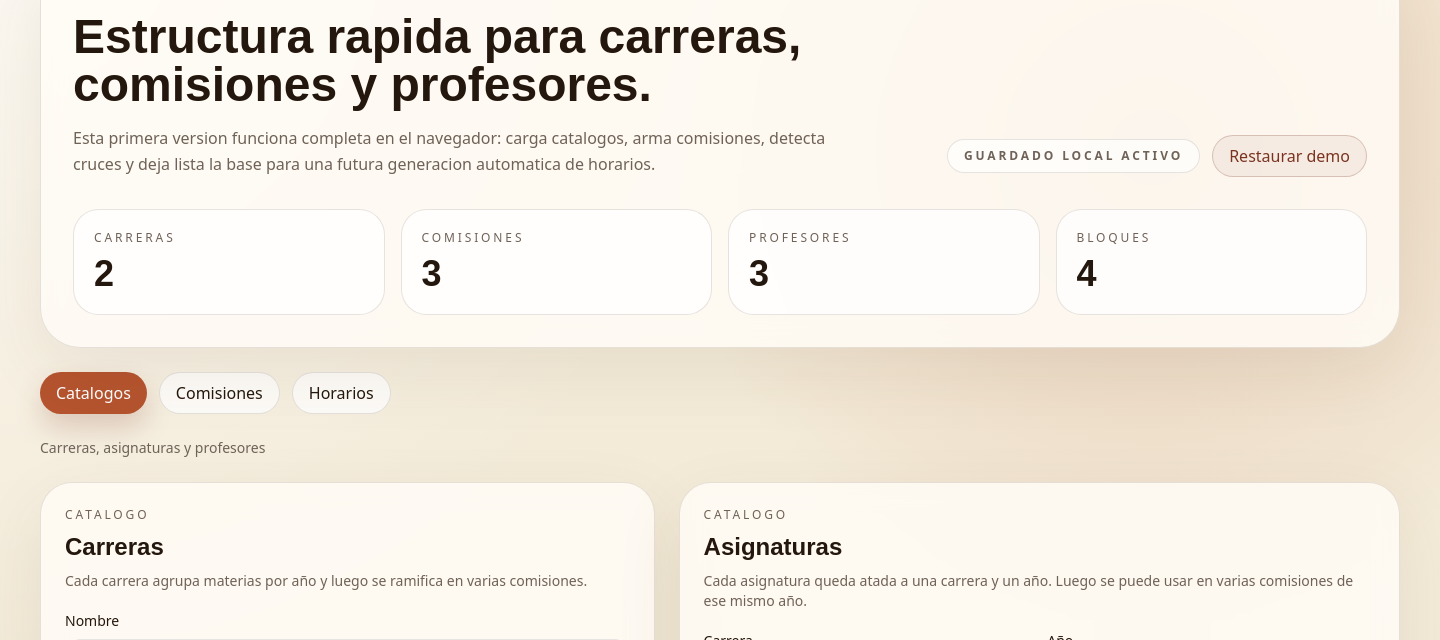
Test: AppShell › shows a teacher pending inside the teacher view
Click the button "Horarios" at {"x": 341, "y": 393}, box [292,372,391,414]
(page scrolled)
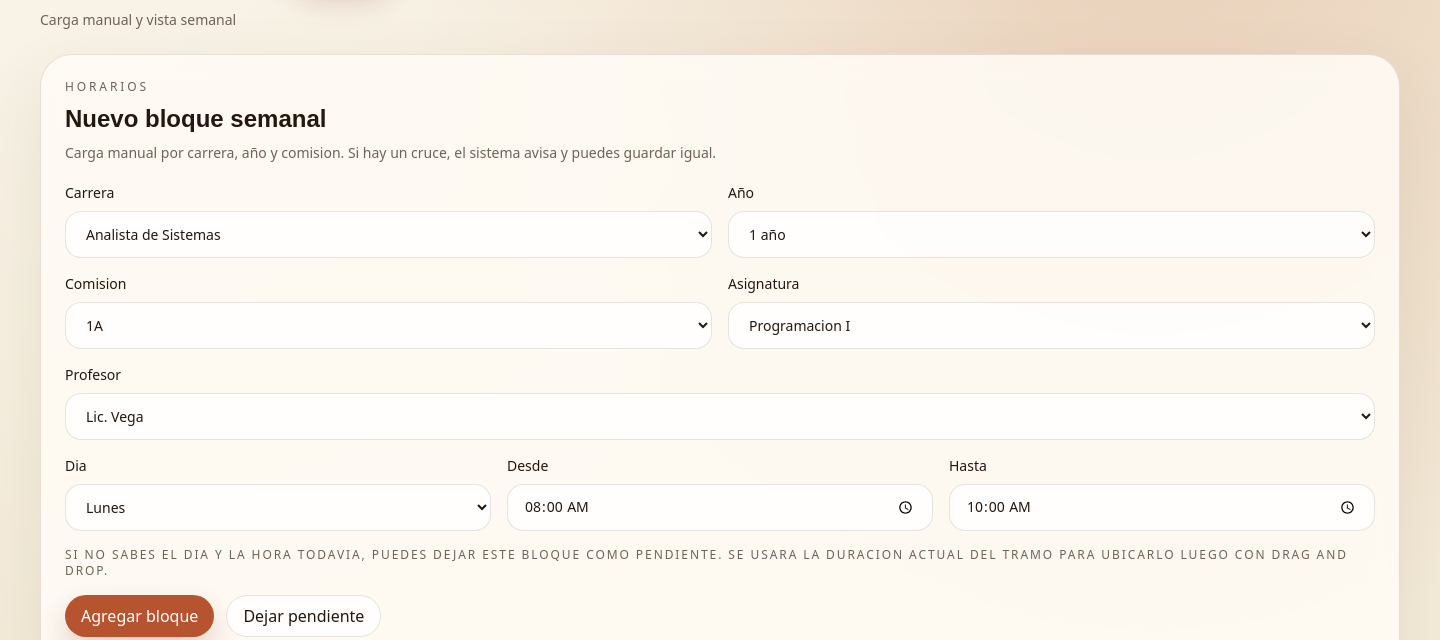
Select "Arquitectura de Computadoras" in the dropdown labelled "Asignatura" at {"x": 1052, "y": 326}, box [728,302,1375,349]
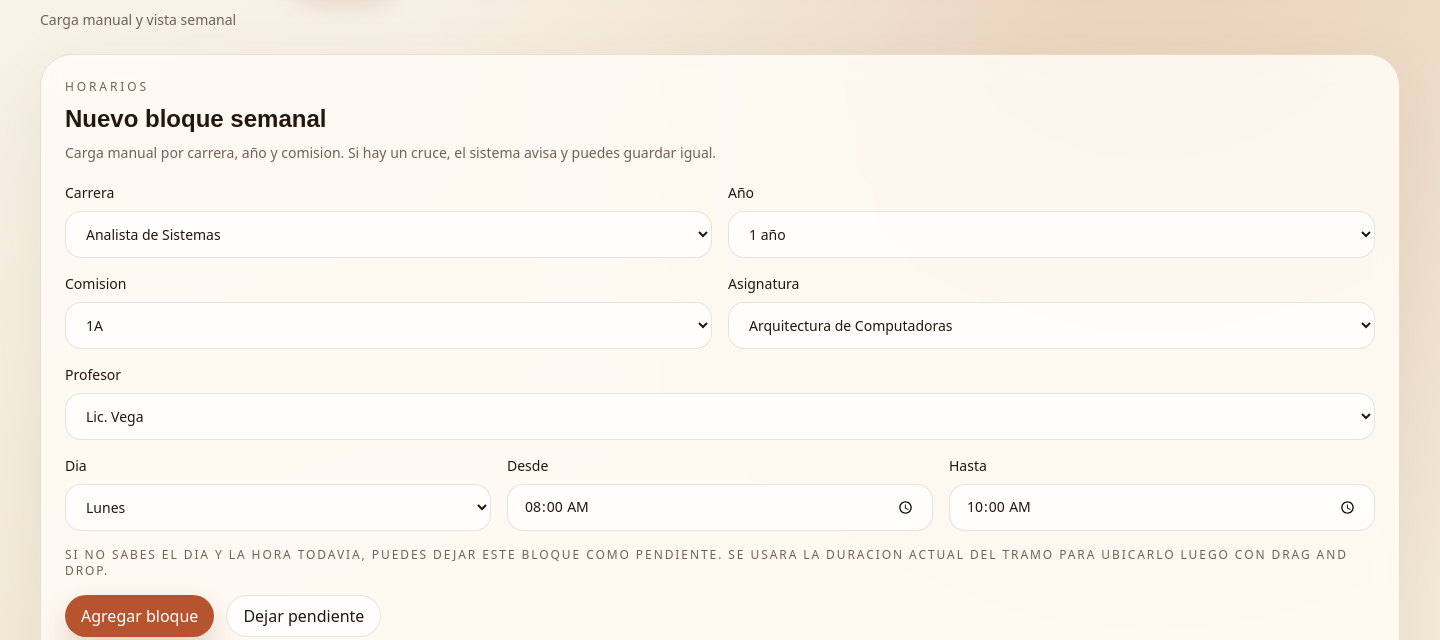
Click the button "Dejar pendiente" at {"x": 304, "y": 616}, box [226,595,381,637]
(page scrolled)
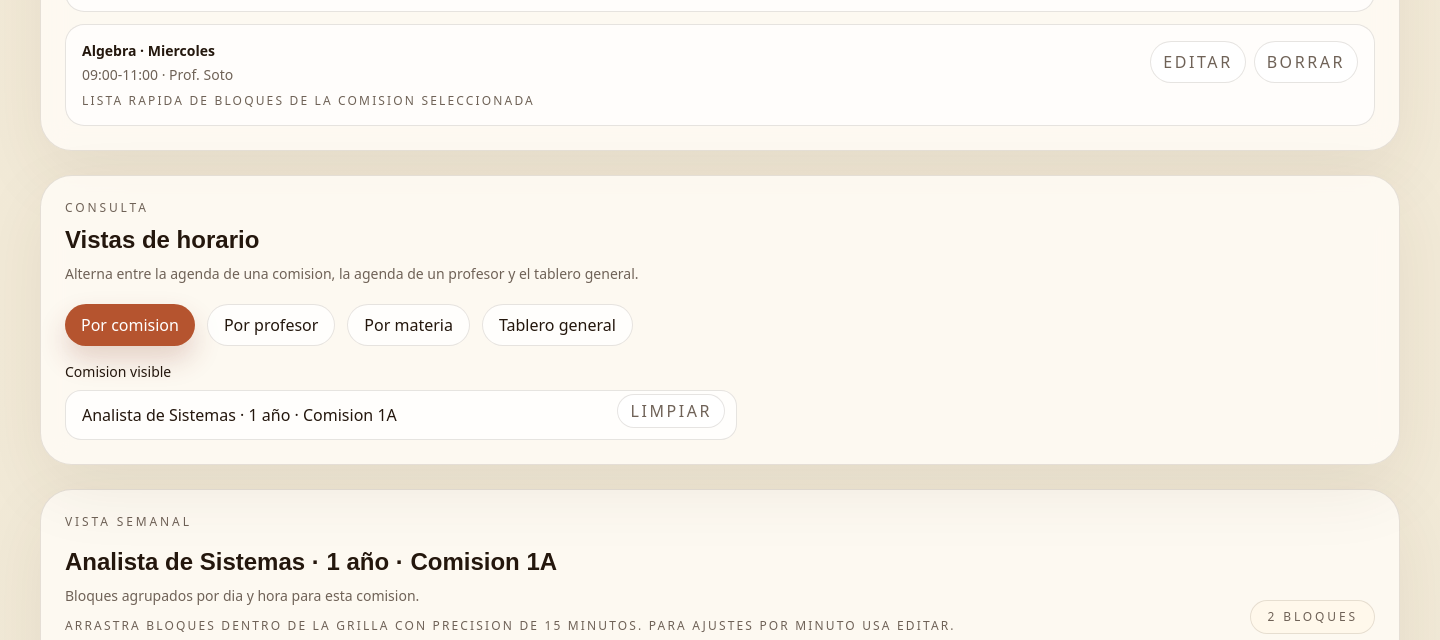
Click the button "Por profesor" at {"x": 271, "y": 325}, box [207,304,335,346]
(page scrolled)
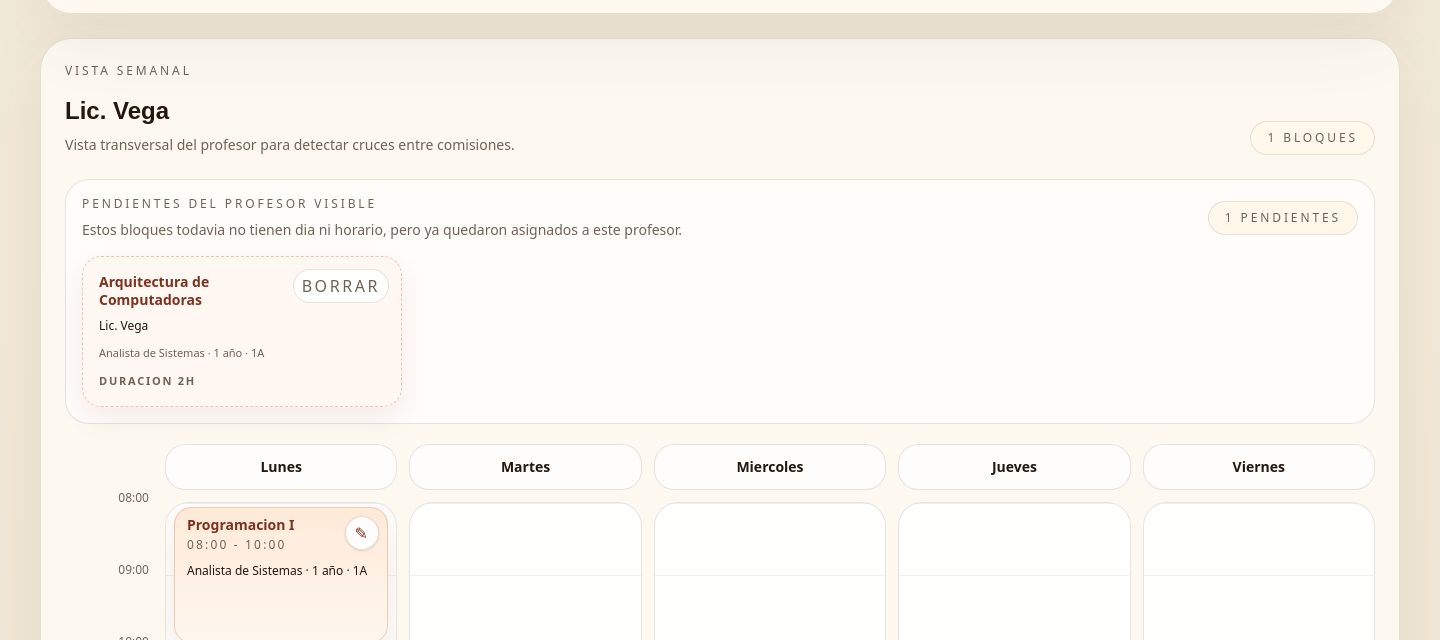
Check: the text "Arquitectura de Computadoras" is shown, box [99,272,209,308]
Check: the text "Lic. Vega" is shown, box [99,317,148,334]
Check: the text "Pendientes del profesor visible" is shown, box [82,195,377,212]
